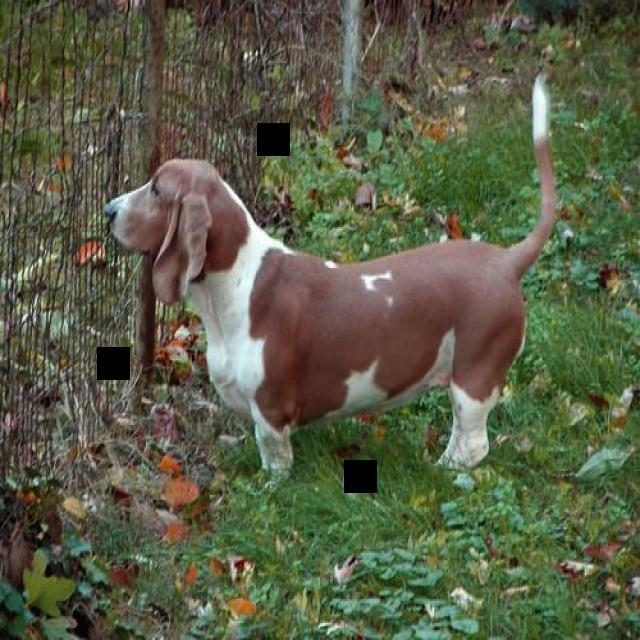adult_dog: (103, 64, 561, 481)
